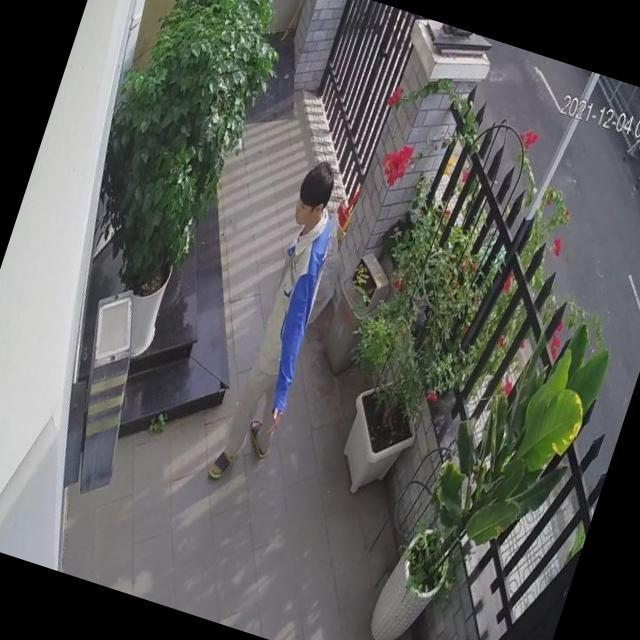person: (206, 155, 362, 492)
